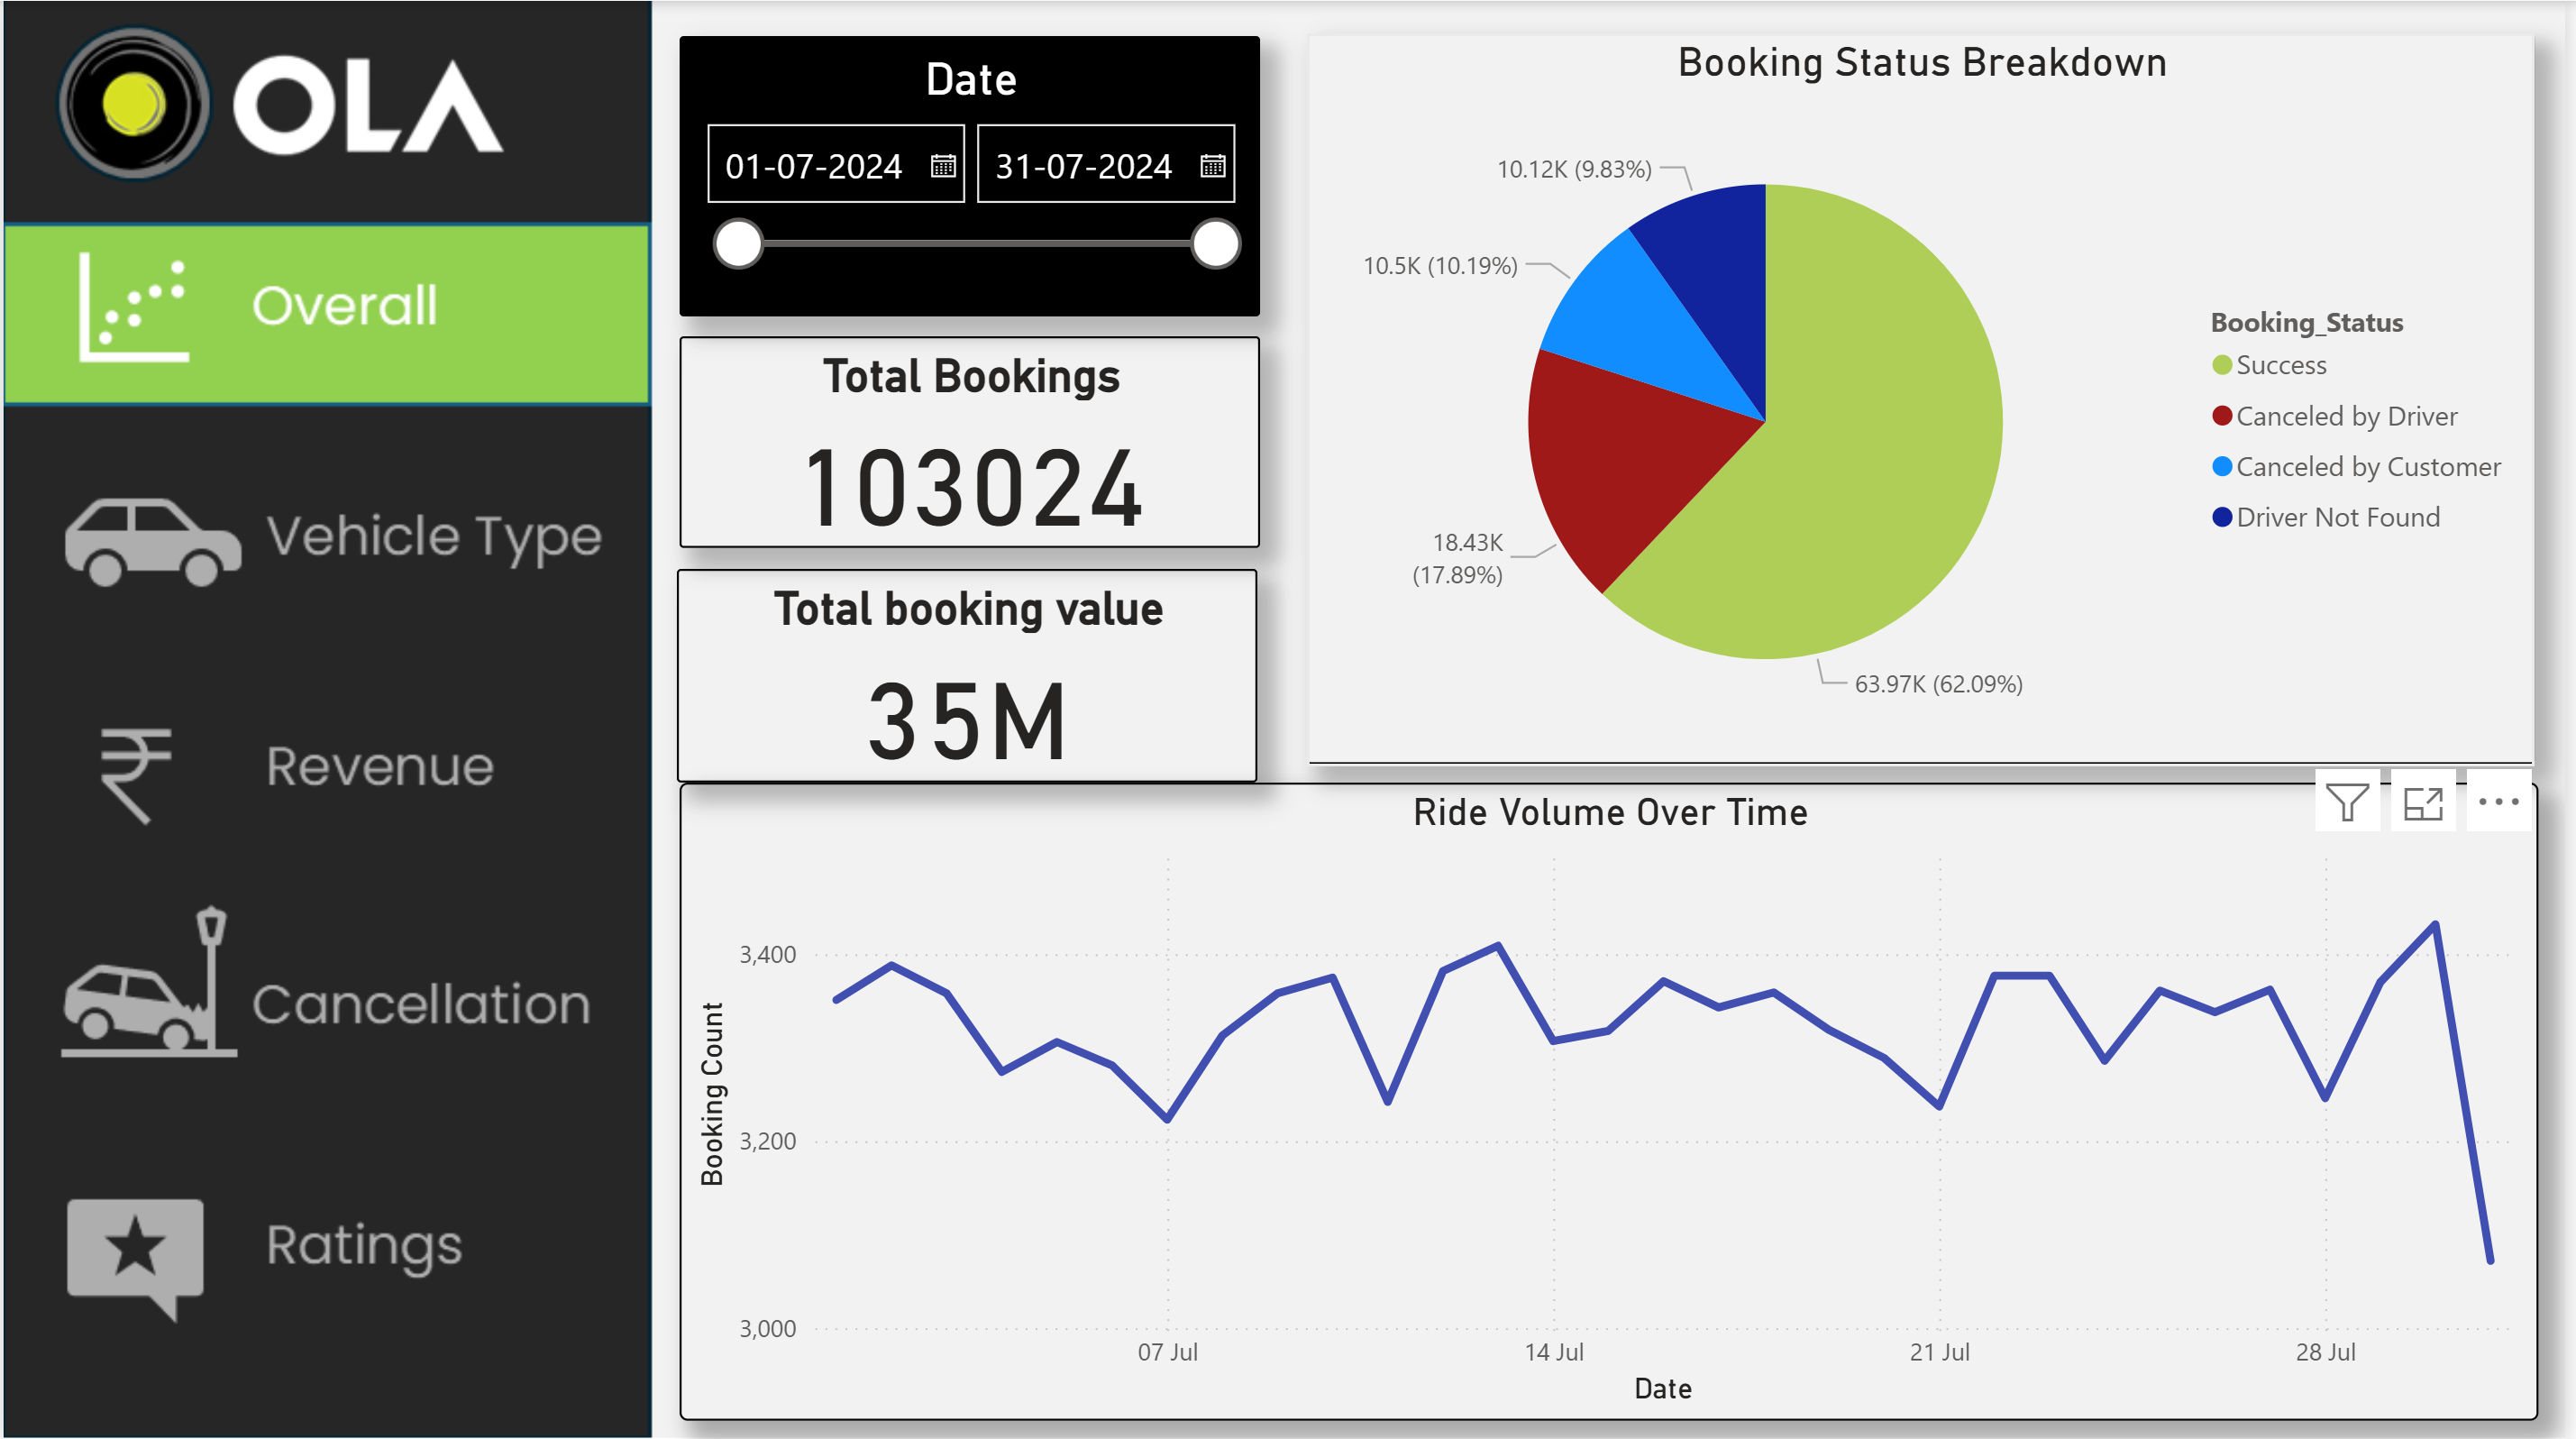

The page's visual inventory and layout, read from the dashboard file:
{"tool":"powerbi","page":{"name":"Overall","canvas":[1280,720],"ordinal":0},"visuals":[{"type":"actionButton","box":[0,226.2,326.2,91.2],"z":0},{"type":"actionButton","box":[0,225,326.2,91.2],"z":1000},{"type":"actionButton","box":[0,112.5,326.2,88.8],"z":2000},{"type":"actionButton","box":[0,446.2,326.2,91.2],"z":3000},{"type":"actionButton","box":[0,336.2,326.2,91.2],"z":5000},{"type":"actionButton","box":[0,571.2,326.2,91.2],"z":6000},{"type":"lineChart","title":"Ride Volume Over Time","fields":{"Y":["CountNonNull(July.Booking_ID)"],"Category":["July.Date"]},"box":[337.5,390,928.8,318.8],"z":7000},{"type":"pieChart","title":"Booking Status Breakdown","fields":{"Category":["July.Booking_Status"],"Y":["CountNonNull(July.Booking_Status)"]},"box":[651.7,16.7,613.3,365],"z":8000},{"type":"slicer","title":"Date","fields":{"Values":["July.Date"]},"box":[337.1,17.1,290,140],"z":9000},{"type":"card","title":"Total Bookings","fields":{"Values":["Count(July.Booking_ID)"]},"box":[337.1,167.1,290,105.7],"z":10000},{"type":"card","title":"Total booking value","fields":{"Values":["Sum(July.Booking_Value)"]},"box":[336.7,283.3,290,106.7],"z":11000}]}

Visuals, with their boxes in screenshot pixels (x1, y1, x2, y2), scaled from the page's 1280x720 canvas onto the 2576x1439 screenshot:
actionButton: bbox=[0, 452, 656, 635]
actionButton: bbox=[0, 450, 656, 632]
actionButton: bbox=[0, 225, 656, 402]
actionButton: bbox=[0, 892, 656, 1074]
actionButton: bbox=[0, 672, 656, 854]
actionButton: bbox=[0, 1141, 656, 1324]
"Ride Volume Over Time" lineChart: bbox=[680, 779, 2548, 1416]
"Booking Status Breakdown" pieChart: bbox=[1311, 33, 2546, 763]
"Date" slicer: bbox=[679, 34, 1262, 314]
"Total Bookings" card: bbox=[679, 334, 1262, 545]
"Total booking value" card: bbox=[678, 566, 1261, 779]
